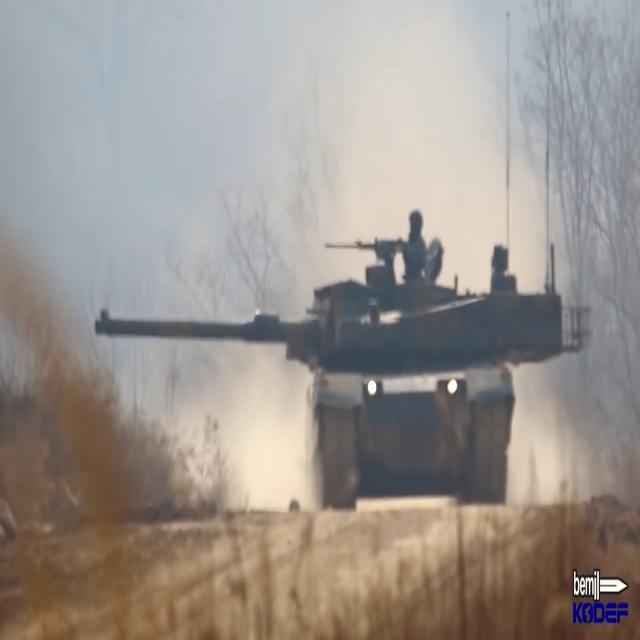korea tank: (93, 205, 592, 508)
